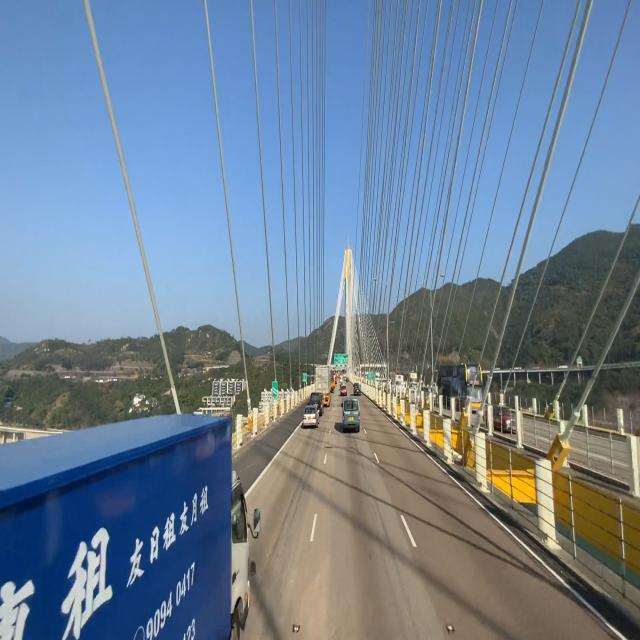Car: (341, 391, 363, 435), (299, 404, 320, 433)
